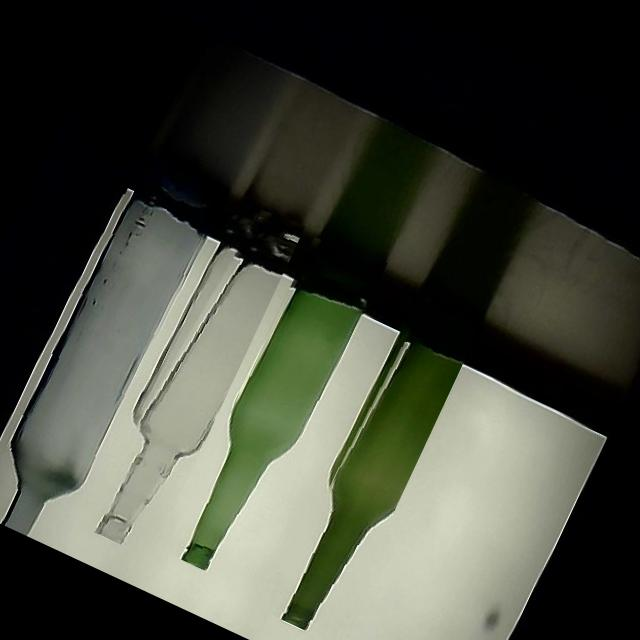Glass: (0, 150, 229, 551), (77, 188, 306, 557), (164, 228, 387, 584), (263, 284, 484, 640)
